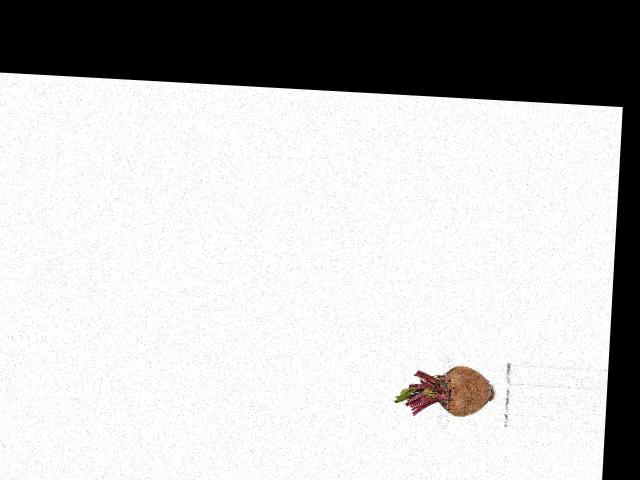beet: (394, 361, 495, 419)
